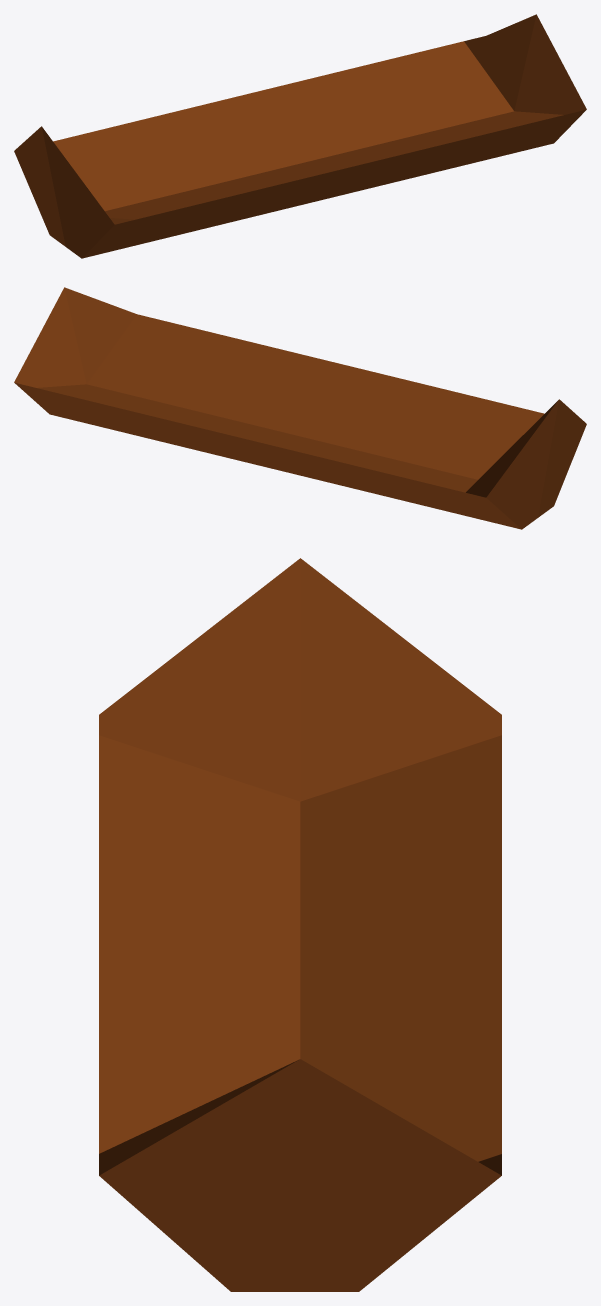
The model's file is Boat.glb.
The picture shows the model from 3 angles, top to bottom: view 1: azimuth 30°, elevation 25°; view 2: azimuth 150°, elevation 25°; view 3: azimuth 270°, elevation 25°; orthographic projection. The views are drawn at different scales.
Parts seen in each view (by area): view 1: Cube; view 2: Cube; view 3: Cube.
Boxes of the visible parts, left/top/right/bottom form: Cube: left=14, top=14, right=586, bottom=258; Cube: left=14, top=287, right=586, bottom=529; Cube: left=99, top=558, right=501, bottom=1291.
Bounding box in the file's own units: 17.83 × 4.32 × 6.29.
1 material, 1 textured.
